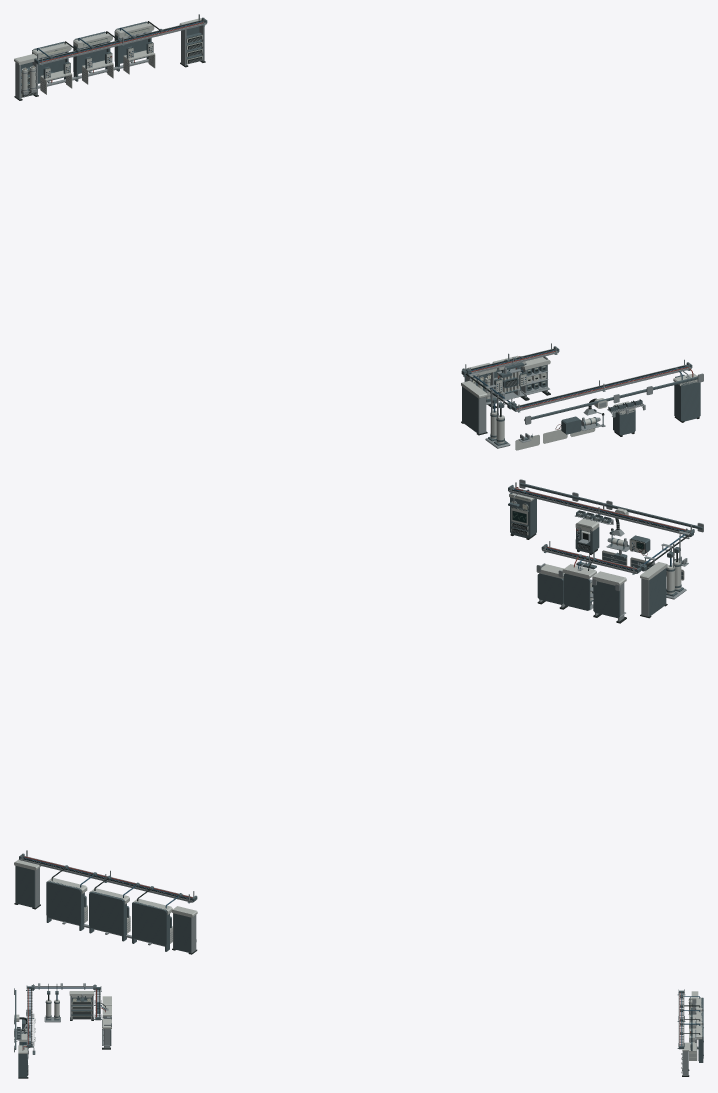
File: AST-ENG-008_dense_bays.glb
3 views of the same model, one above another, from view 1: azimuth 30°, elevation 25°; view 2: azimuth 150°, elevation 25°; view 3: azimuth 270°, elevation 25° (orthographic). The views are drawn at different scales.
Visible parts, largest first — view 1: Dense_WORKBAY_staff_bluegrey_paint_static_surface, Dense_WORKBAY_staff_zinc_static_surface, Dense_CONTROL_staff_white_paint_static_surface, Dense_WORKBAY_staff_white_paint_static_surface, Dense_CONTROL_staff_bluegrey_paint_static_surface, Dense_CONTROL_staff_zinc_static_surface, Dense_WORKBAY_staff_rubber_static_surface, Dense_CONTROL_staff_rubber_static_surface; view 2: Dense_WORKBAY_staff_bluegrey_paint_static_surface, Dense_CONTROL_staff_bluegrey_paint_static_surface, Dense_WORKBAY_staff_zinc_static_surface, Dense_WORKBAY_staff_white_paint_static_surface, Dense_CONTROL_staff_zinc_static_surface, Dense_WORKBAY_staff_rubber_static_surface, Dense_CONTROL_staff_white_paint_static_surface; view 3: Dense_WORKBAY_staff_zinc_static_surface, Dense_WORKBAY_staff_bluegrey_paint_static_surface, Dense_WORKBAY_staff_white_paint_static_surface, Dense_CONTROL_staff_white_paint_static_surface, Dense_CONTROL_staff_zinc_static_surface, Dense_WORKBAY_staff_rubber_static_surface, Dense_CONTROL_staff_bluegrey_paint_static_surface, Dense_WORKBAY_staff_cable_blue_static_surface, Dense_CONTROL_staff_rubber_static_surface.
Part boxes in pixels (x1,y1,x2,y2): Dense_WORKBAY_staff_bluegrey_paint_static_surface: [461, 346, 700, 445]; Dense_WORKBAY_staff_zinc_static_surface: [462, 343, 703, 448]; Dense_CONTROL_staff_white_paint_static_surface: [14, 18, 202, 97]; Dense_WORKBAY_staff_white_paint_static_surface: [461, 355, 697, 450]; Dense_CONTROL_staff_bluegrey_paint_static_surface: [21, 17, 207, 97]; Dense_CONTROL_staff_zinc_static_surface: [15, 14, 206, 99]; Dense_WORKBAY_staff_rubber_static_surface: [461, 349, 699, 436]; Dense_CONTROL_staff_rubber_static_surface: [14, 20, 205, 100]; Dense_WORKBAY_staff_bluegrey_paint_static_surface: [508, 483, 702, 618]; Dense_CONTROL_staff_bluegrey_paint_static_surface: [16, 853, 197, 952]; Dense_WORKBAY_staff_zinc_static_surface: [508, 479, 703, 621]; Dense_WORKBAY_staff_white_paint_static_surface: [509, 493, 684, 600]; Dense_CONTROL_staff_zinc_static_surface: [15, 850, 196, 952]; Dense_WORKBAY_staff_rubber_static_surface: [510, 489, 689, 623]; Dense_CONTROL_staff_white_paint_static_surface: [14, 859, 197, 943]; Dense_WORKBAY_staff_zinc_static_surface: [14, 983, 111, 1058]; Dense_WORKBAY_staff_bluegrey_paint_static_surface: [15, 985, 111, 1077]; Dense_WORKBAY_staff_white_paint_static_surface: [14, 991, 111, 1053]; Dense_CONTROL_staff_white_paint_static_surface: [682, 991, 702, 1060]; Dense_CONTROL_staff_zinc_static_surface: [678, 989, 703, 1075]; Dense_WORKBAY_staff_rubber_static_surface: [18, 986, 110, 1078]; Dense_CONTROL_staff_bluegrey_paint_static_surface: [677, 990, 703, 1075]; Dense_WORKBAY_staff_cable_blue_static_surface: [22, 987, 105, 1046]; Dense_CONTROL_staff_rubber_static_surface: [681, 993, 700, 1076].
Bounding box in the file's own units: 13.54 × 3.6 × 63.64.
Materials: 9 (9 with a texture image).
